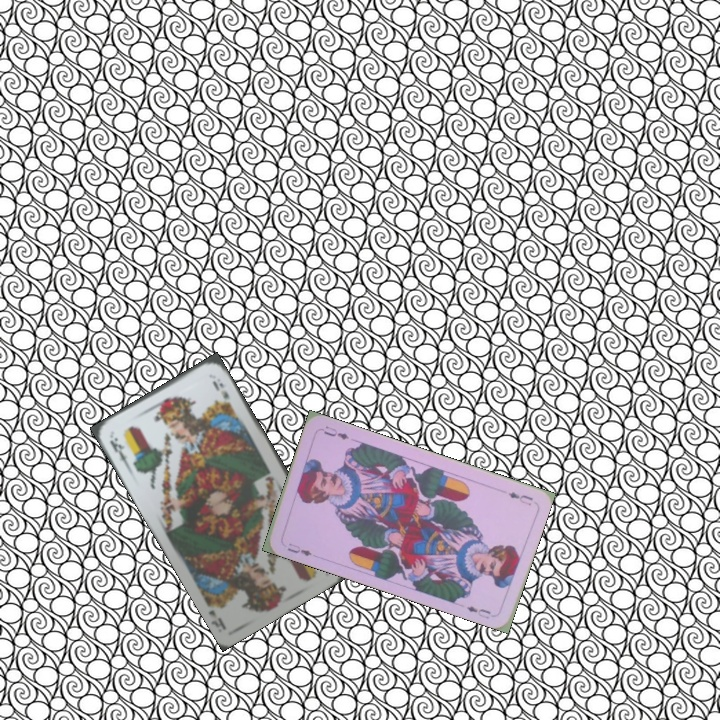EK: (106, 433, 132, 470)
EU: (283, 539, 314, 559), (504, 488, 535, 508)
